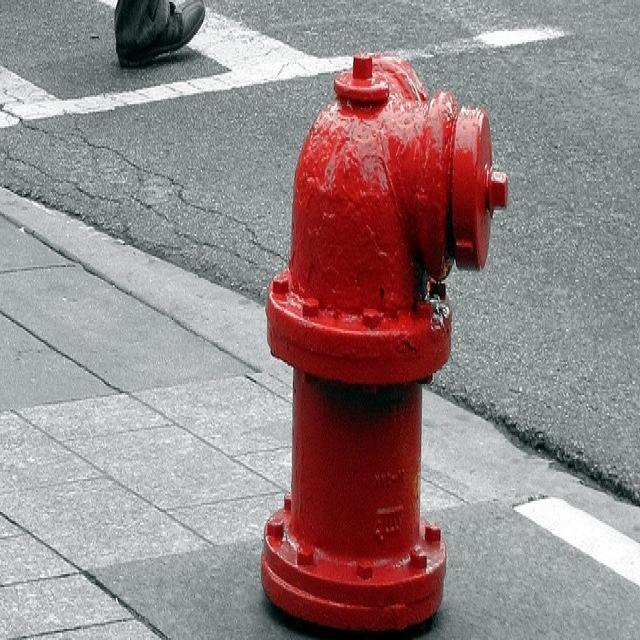fire_hydrant: (268, 50, 467, 634)
